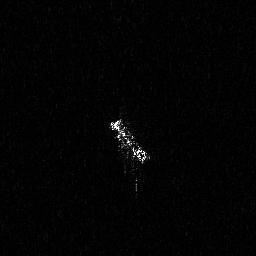ship: (106, 115, 153, 201)
